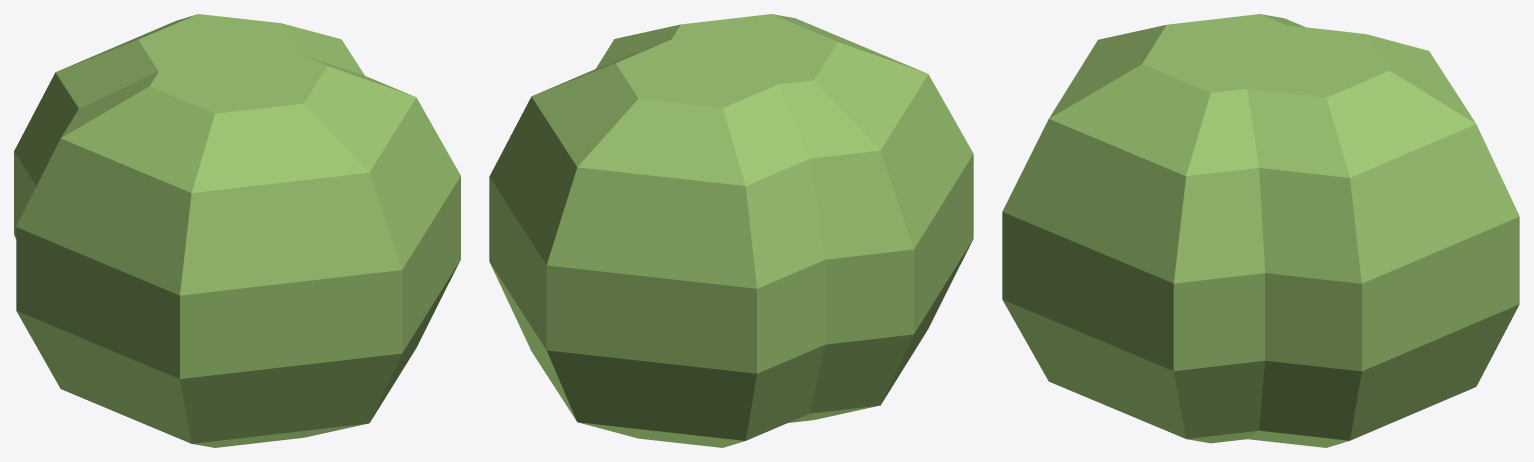
The model's file is Prop_Bush_3.glb.
3 renders of one model, left to right at view 1: azimuth 30°, elevation 25°; view 2: azimuth 150°, elevation 25°; view 3: azimuth 270°, elevation 25°, orthographic. The views are drawn at different scales.
Visible parts, largest first — view 1: object1; view 2: object1; view 3: object1.
Boxes of the visible parts, box(x1,y1,x2,y2) form: object1: box(14, 14, 460, 447); object1: box(489, 14, 973, 447); object1: box(1002, 14, 1519, 447).
Size of the model in its own units: 0.9682 by 0.8 by 1.07.
